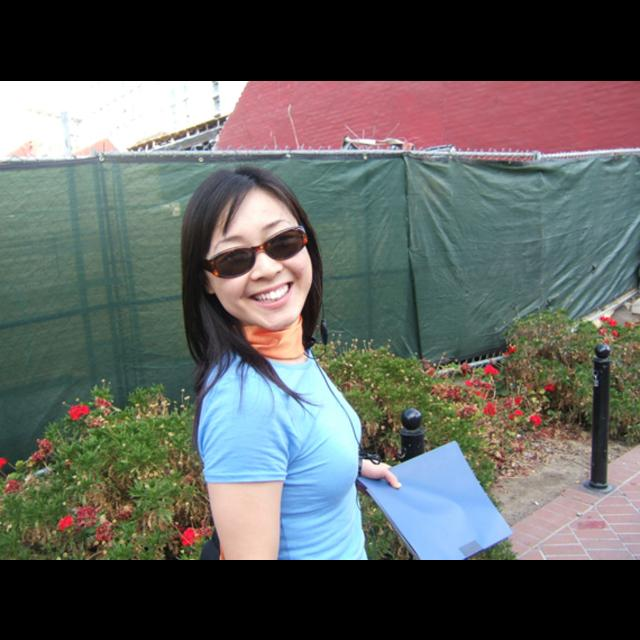Flower: (179, 523, 207, 547), (56, 514, 76, 538), (68, 401, 90, 421), (506, 396, 522, 418), (526, 408, 540, 428), (483, 359, 499, 375), (482, 400, 494, 420), (539, 378, 555, 392), (604, 314, 620, 324)
